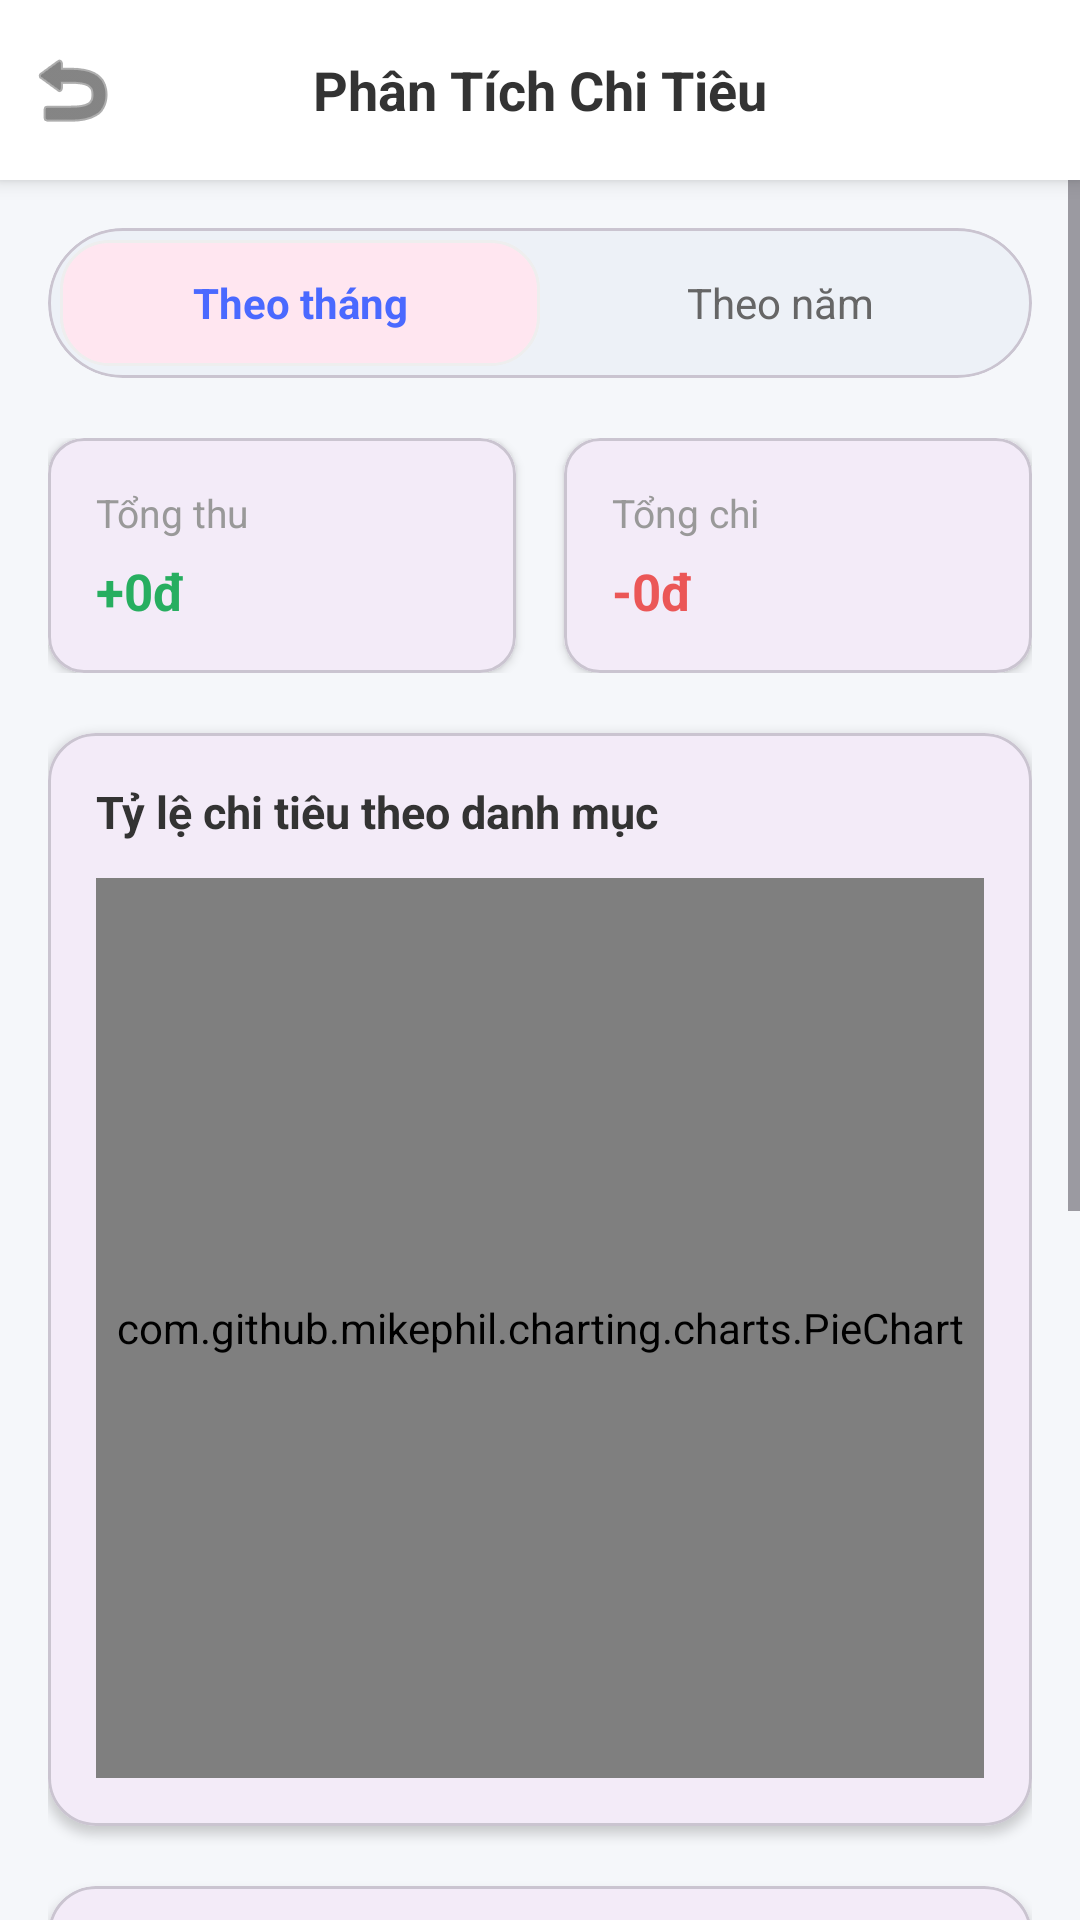

Point at icon controls on the screen. Image size 1080 x 1920, points as [x,y].
Quay lại: [73,90]
